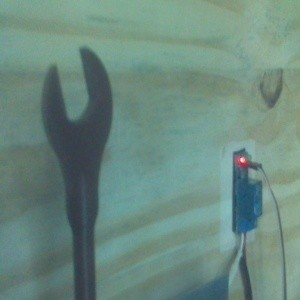spanner: (38, 44, 114, 300)
